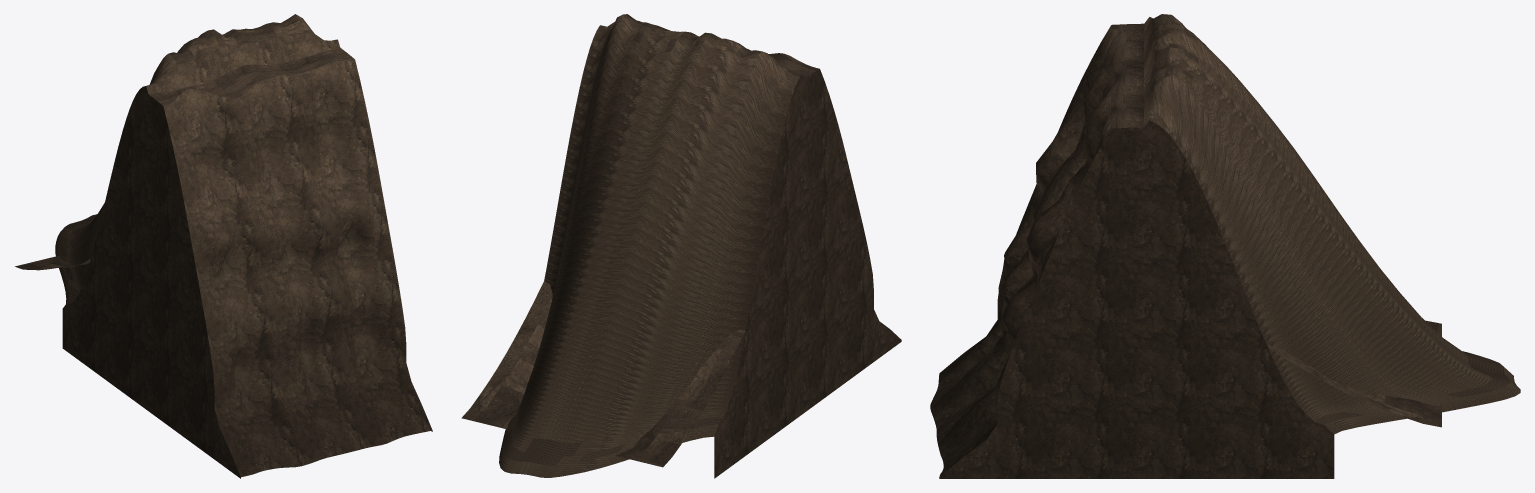
File: seacliff_straight6_h8_v5_dead.glb
The picture shows the model from 3 angles, left to right: view 1: azimuth 30°, elevation 25°; view 2: azimuth 150°, elevation 25°; view 3: azimuth 270°, elevation 25°; orthographic projection. The views are drawn at different scales.
Parts seen in each view (by area): view 1: seacliff_straight6_h8; view 2: seacliff_straight6_h8; view 3: seacliff_straight6_h8.
Boxes of the visible parts, x1=… form: seacliff_straight6_h8: x1=15, y1=14, x2=432, y2=478; seacliff_straight6_h8: x1=461, y1=14, x2=901, y2=478; seacliff_straight6_h8: x1=930, y1=14, x2=1520, y2=478.
Size of the model in its own units: 6 by 10.49 by 14.44.
Materials: 2 (2 with a texture image).
